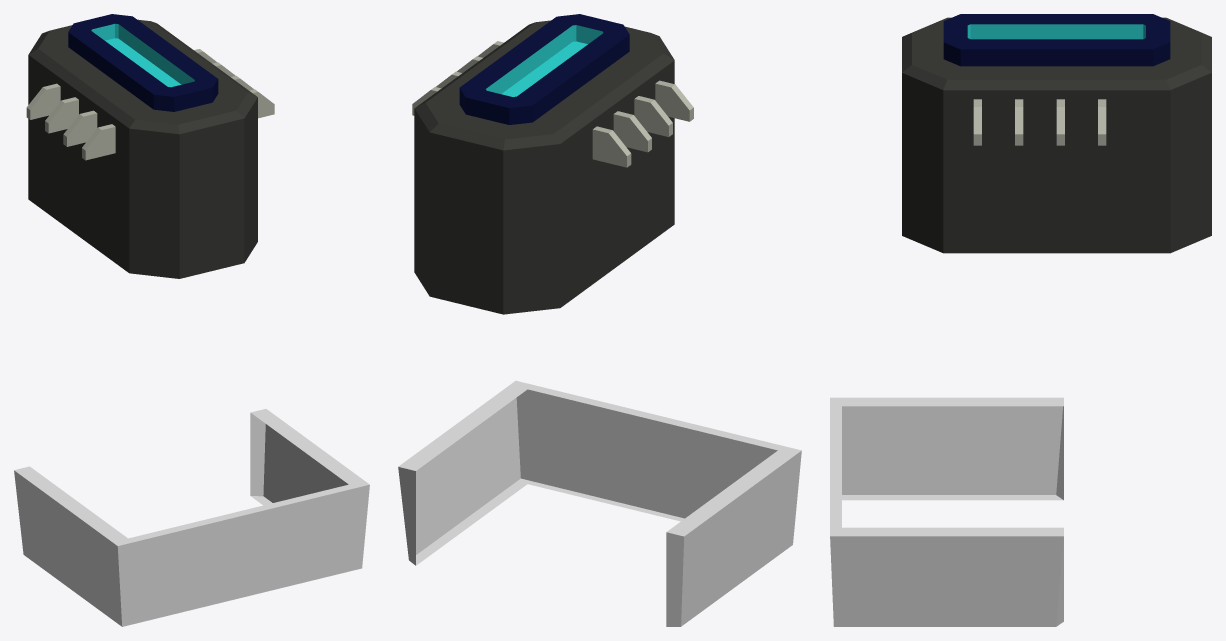
3 views of the same model, side by side, from view 1: azimuth 30°, elevation 25°; view 2: azimuth 150°, elevation 25°; view 3: azimuth 270°, elevation 25° (orthographic). The views are drawn at different scales.
Visible parts, largest first — view 1: 立方体.042; view 2: 立方体.042; view 3: 立方体.042.
Boxes of the visible parts, box(x1,y1,x2,y2) form: 立方体.042: box(14, 14, 369, 626); 立方体.042: box(398, 14, 801, 626); 立方体.042: box(830, 14, 1211, 626).
Bounding box in the file's own units: 170 × 303 × 198.
